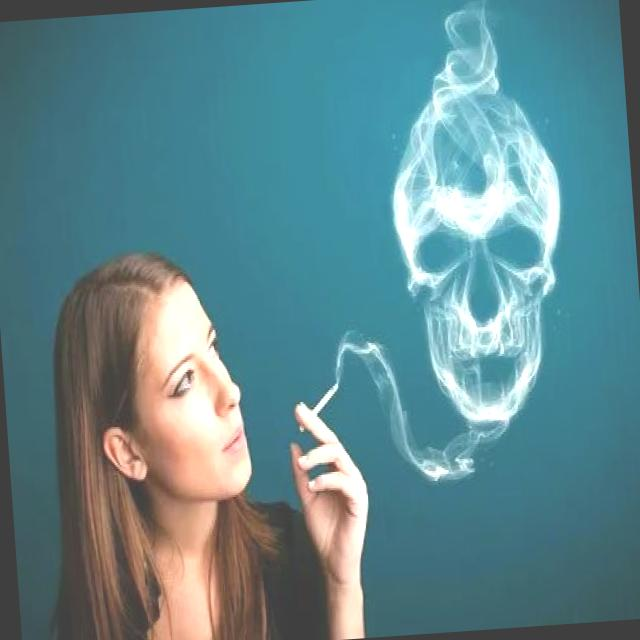cigarette: (293, 379, 342, 436)
